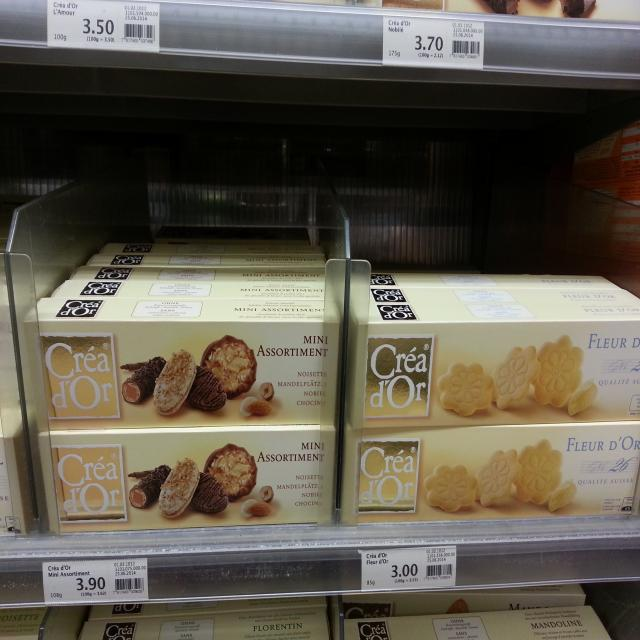Biscuits: (20, 292, 338, 425), (340, 302, 640, 430), (343, 423, 640, 528), (33, 421, 334, 523)
